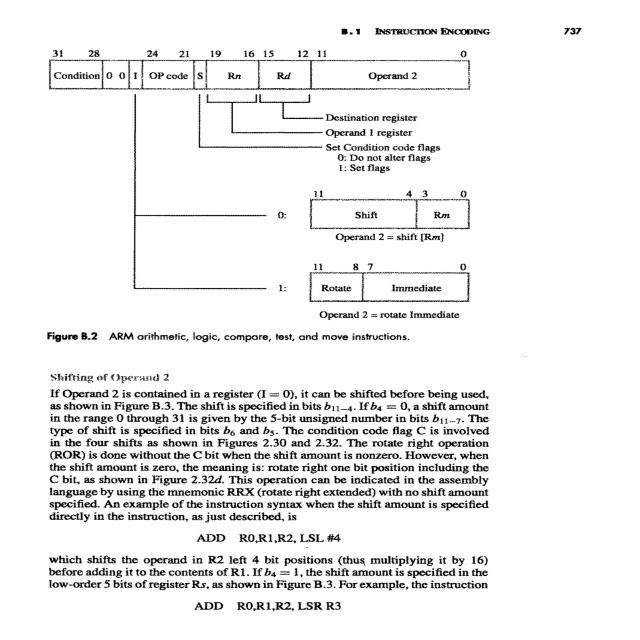diagram: (30, 28, 640, 366)
